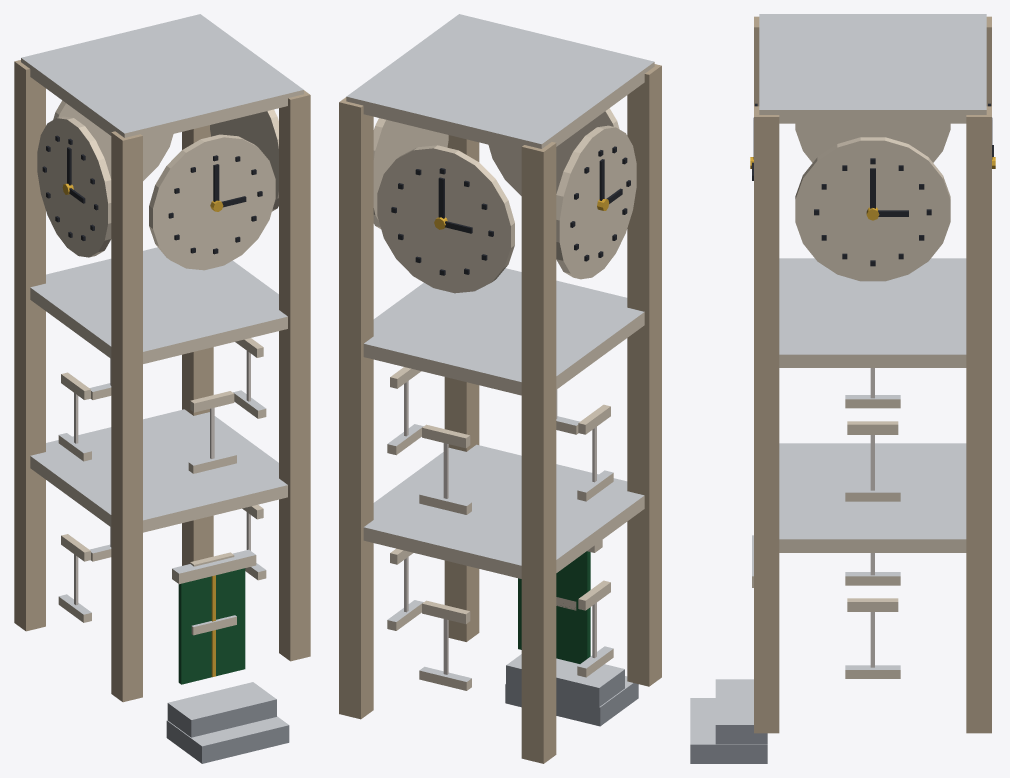
Rendered from ClockTower_Trim.glb.
3 renders of one model, left to right at view 1: azimuth 30°, elevation 25°; view 2: azimuth 150°, elevation 25°; view 3: azimuth 270°, elevation 25°, orthographic. The views are drawn at different scales.
Parts seen in each view (by area): view 1: ClockTower_Trim; view 2: ClockTower_Trim; view 3: ClockTower_Trim.
Part boxes in pixels (x1,y1,x2,y2): ClockTower_Trim: (14,14,310,763); ClockTower_Trim: (339,14,661,763); ClockTower_Trim: (690,14,995,763).
Size of the model in its own units: 11.56 by 35.25 by 14.38.
